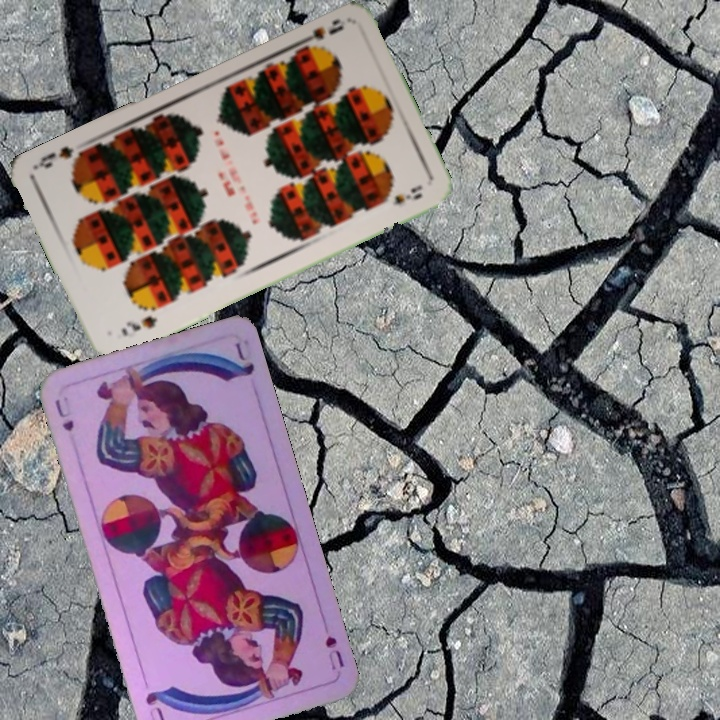S9: (293, 14, 346, 55), (117, 312, 160, 339)
SU: (50, 392, 77, 434), (321, 632, 347, 673)
